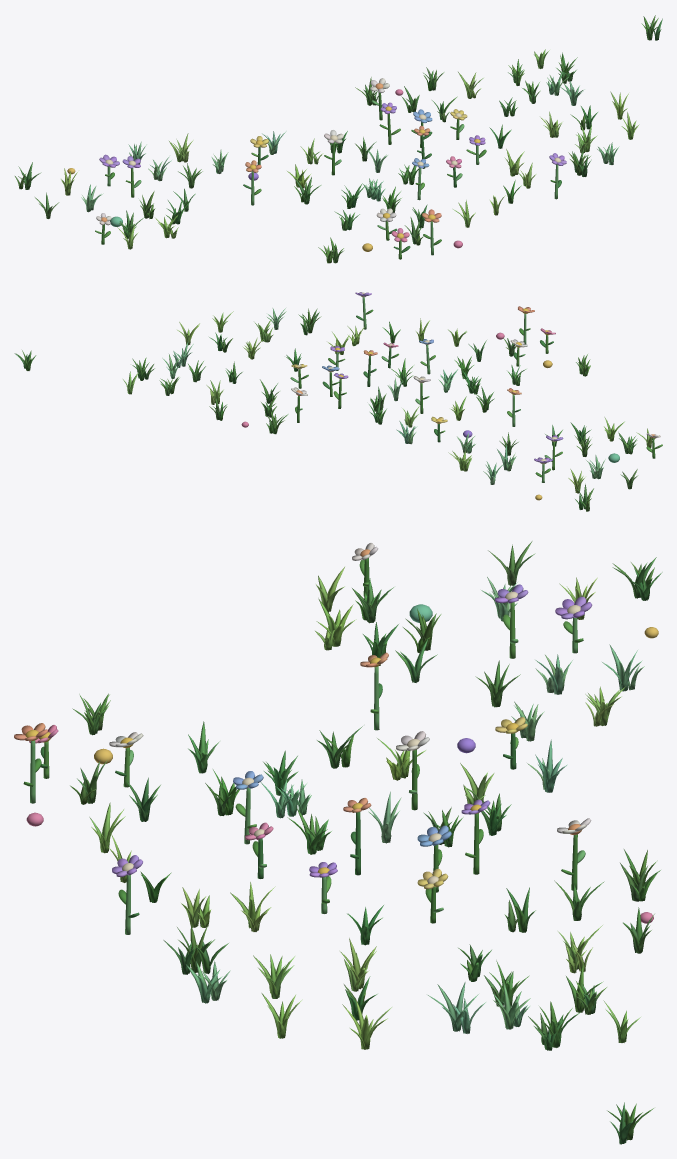
Rendered from W3_SpillFlora.fbx.
3 renders of one model, top to bottom at view 1: azimuth 30°, elevation 25°; view 2: azimuth 150°, elevation 25°; view 3: azimuth 270°, elevation 25°, orthographic. The views are drawn at different scales.
Visible parts, largest first — view 1: W3_SpillFlora; view 2: W3_SpillFlora; view 3: W3_SpillFlora.
Boxes of the visible parts, x1,y1,x2,y2 form: W3_SpillFlora: [15, 15, 662, 263]; W3_SpillFlora: [14, 292, 662, 511]; W3_SpillFlora: [14, 541, 662, 1144].
Size of the model in its own units: 2.47 by 0.1532 by 1.18.
